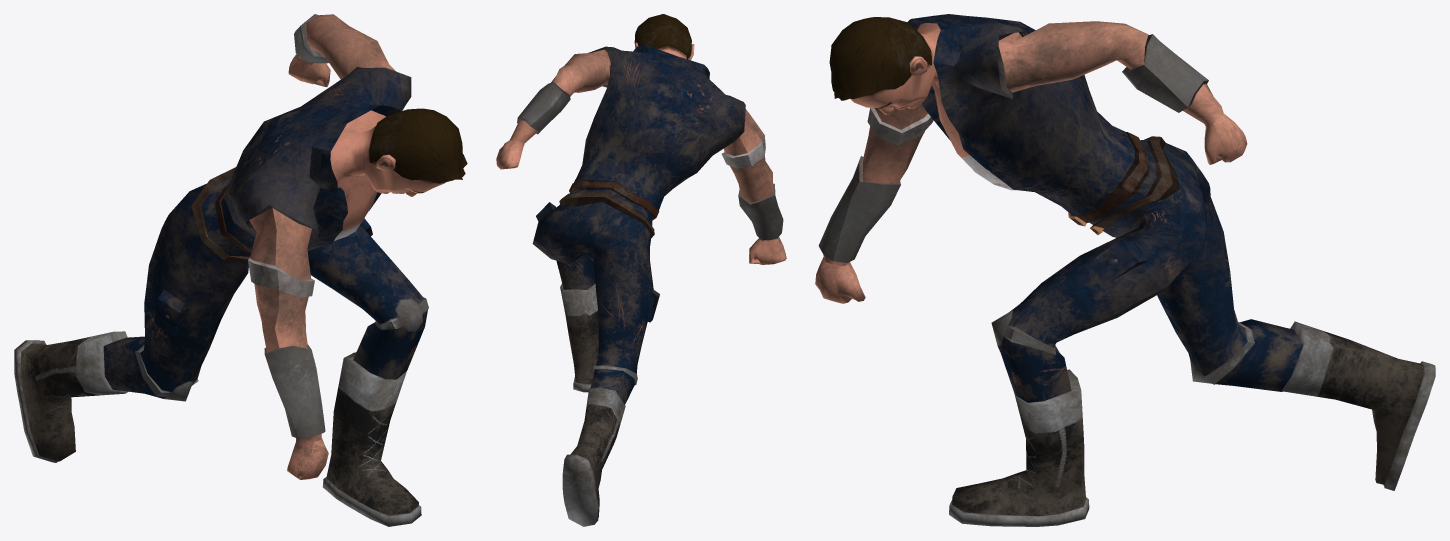
File: Anim_especial_jugador.0032.obj
3 views of the same model, side by side, from view 1: azimuth 30°, elevation 25°; view 2: azimuth 150°, elevation 25°; view 3: azimuth 270°, elevation 25° (orthographic). The views are drawn at different scales.
Visible parts, largest first — view 1: polySurface1; view 2: polySurface1; view 3: polySurface1.
Part boxes in pixels (left/top/right/bottom): polySurface1: left=14, top=14, right=467, bottom=526; polySurface1: left=496, top=14, right=786, bottom=526; polySurface1: left=815, top=14, right=1435, bottom=526.
Bounding box in the file's own units: 3.35 × 6.95 × 7.2.
